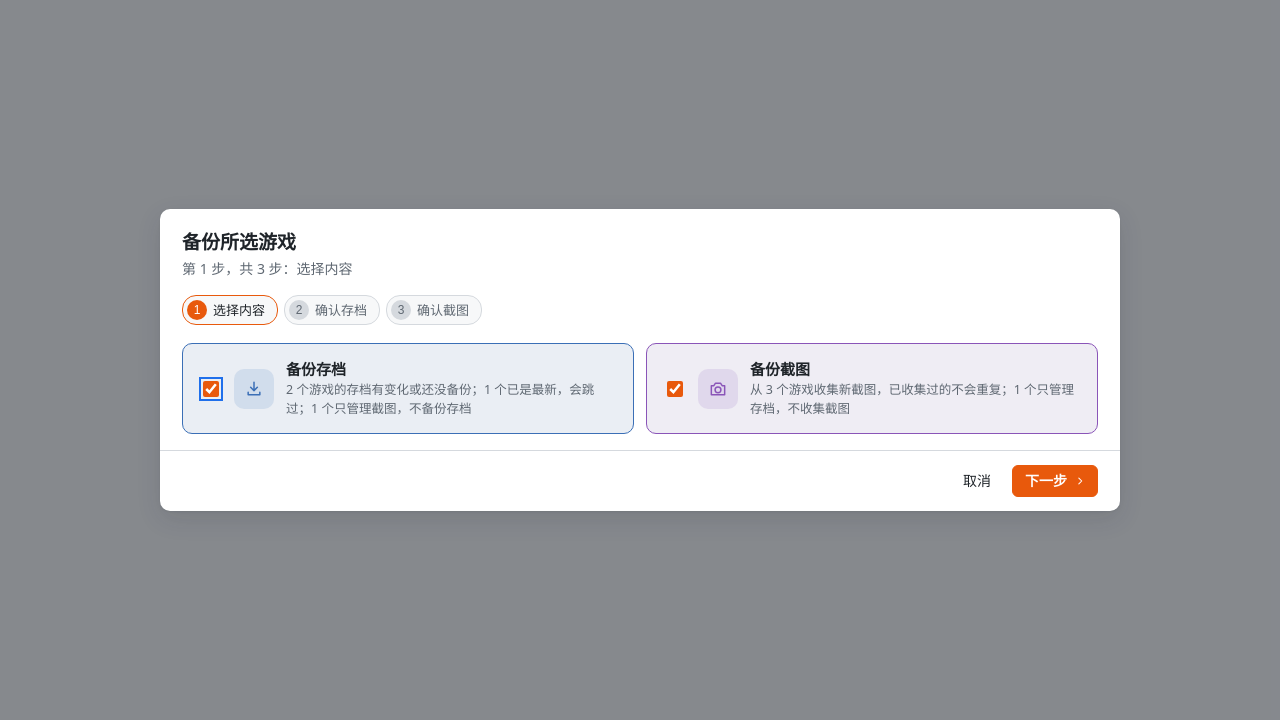
Test case: 备份确认 › 分步：选择存档与截图，依次确认，确认页可移除游戏；已是最新的跳过存档
This screenshot has width=1280, height=720.
expect the text "第 1 步，共 3 步：选择内容" is shown: met, box [182,259,353,278]
expect the checkbox labelled "备份存档 2 个游戏的存档有变化或还没备份；1 个已是最新，会跳过；1 个只管理截图，不备份存档" is checked: met, box [203,380,219,396]
Click the button "下一步": (1055, 481) [1012,465,1098,497]
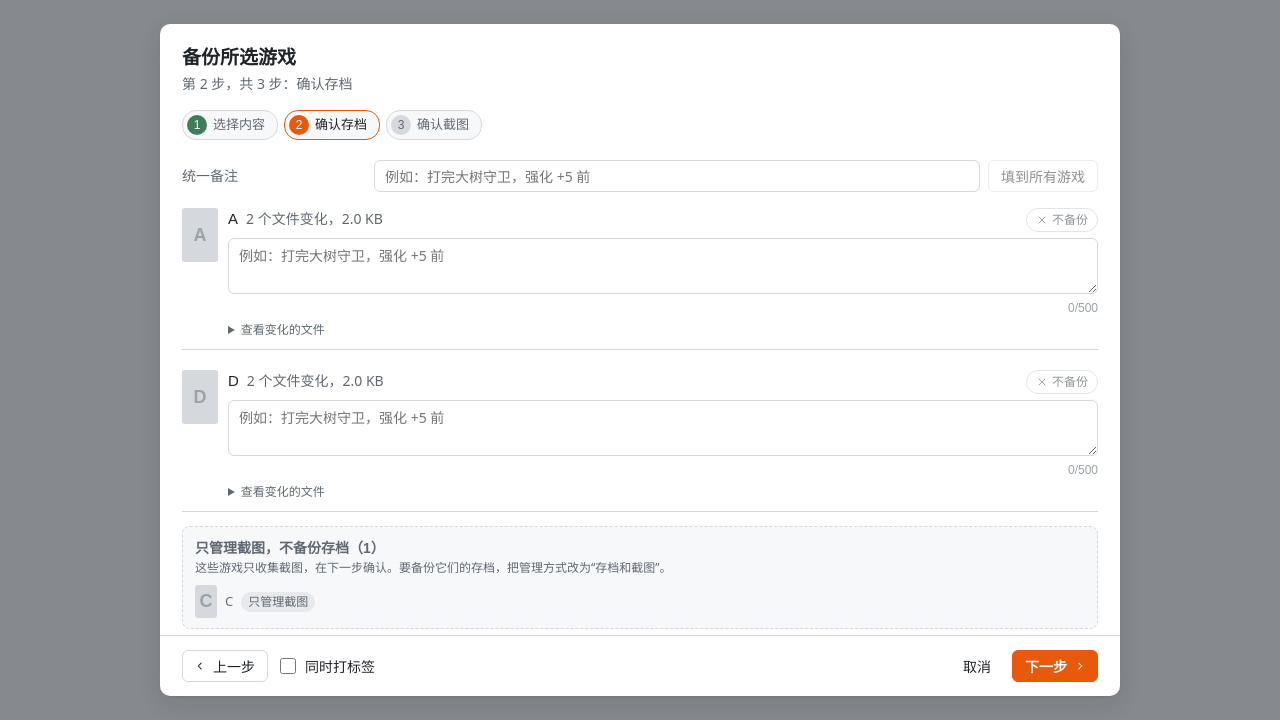
expect the element "只管理截图，不备份存档（1）" is shown: met, box [248,592,308,610]
Click the button with aria-label "这次不备份「D」": (1062, 382) [1026,370,1098,394]
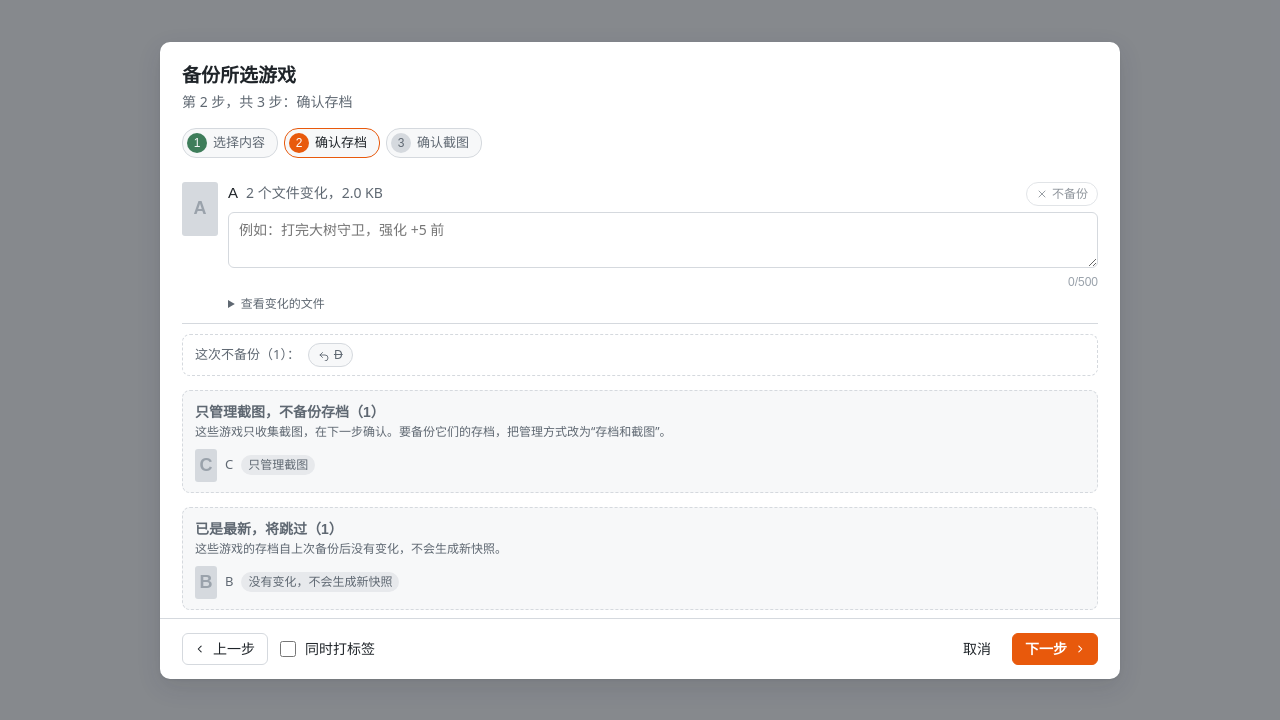
expect the text box labelled "「D」的备注" is gone: met
移出的游戏列在下方，可以恢复。
Click the button named "恢复「D」": (330, 354) [308,342,353,366]
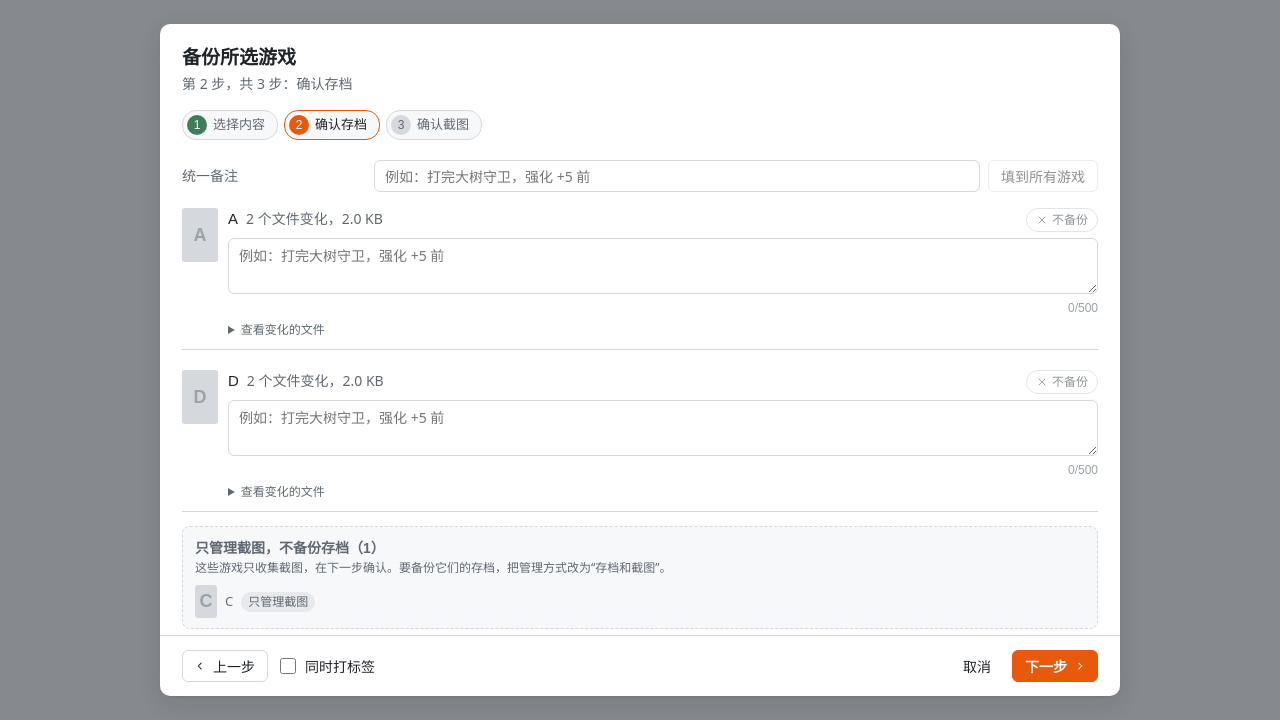
expect the text box named "「D」的备注" is shown: met, box [228,400,1098,456]
Click the button with aria-label "这次不备份「D」": (1062, 382) [1026,370,1098,394]
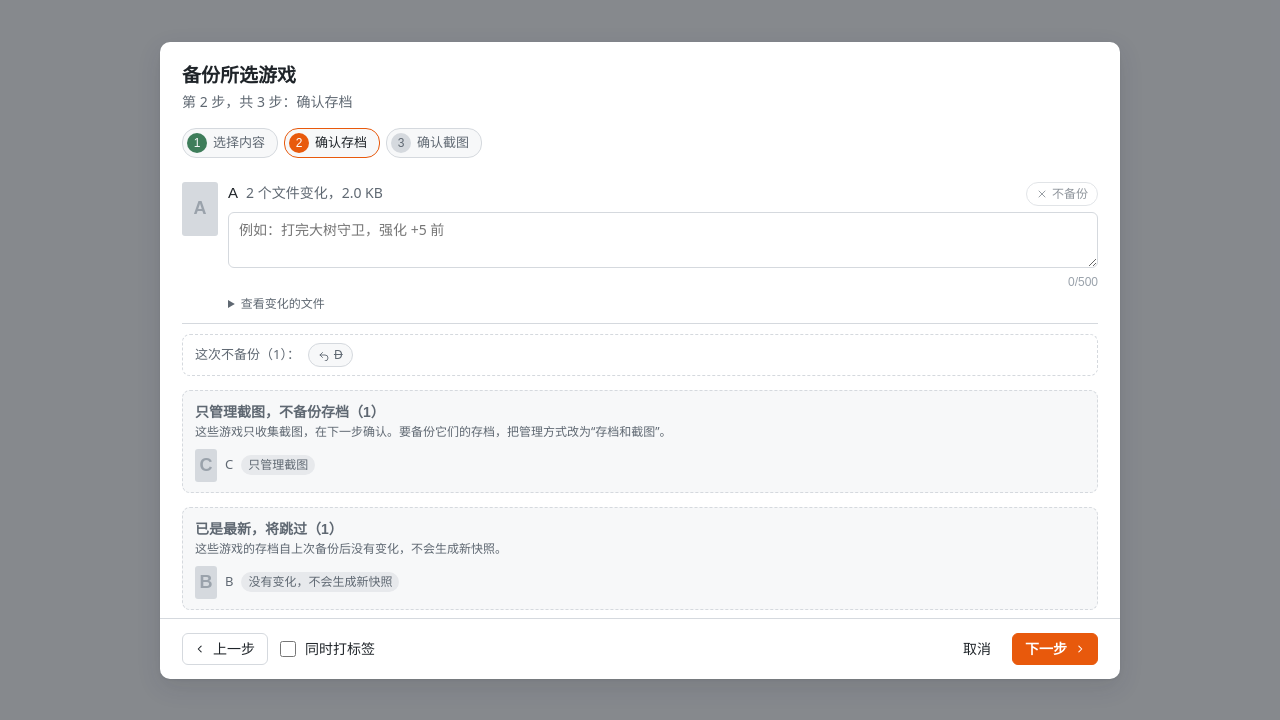
expect the text "这次不备份（1）：" is shown: met, box [195,345,300,364]
Click the button "下一步": (1055, 648) [1012,632,1098,664]
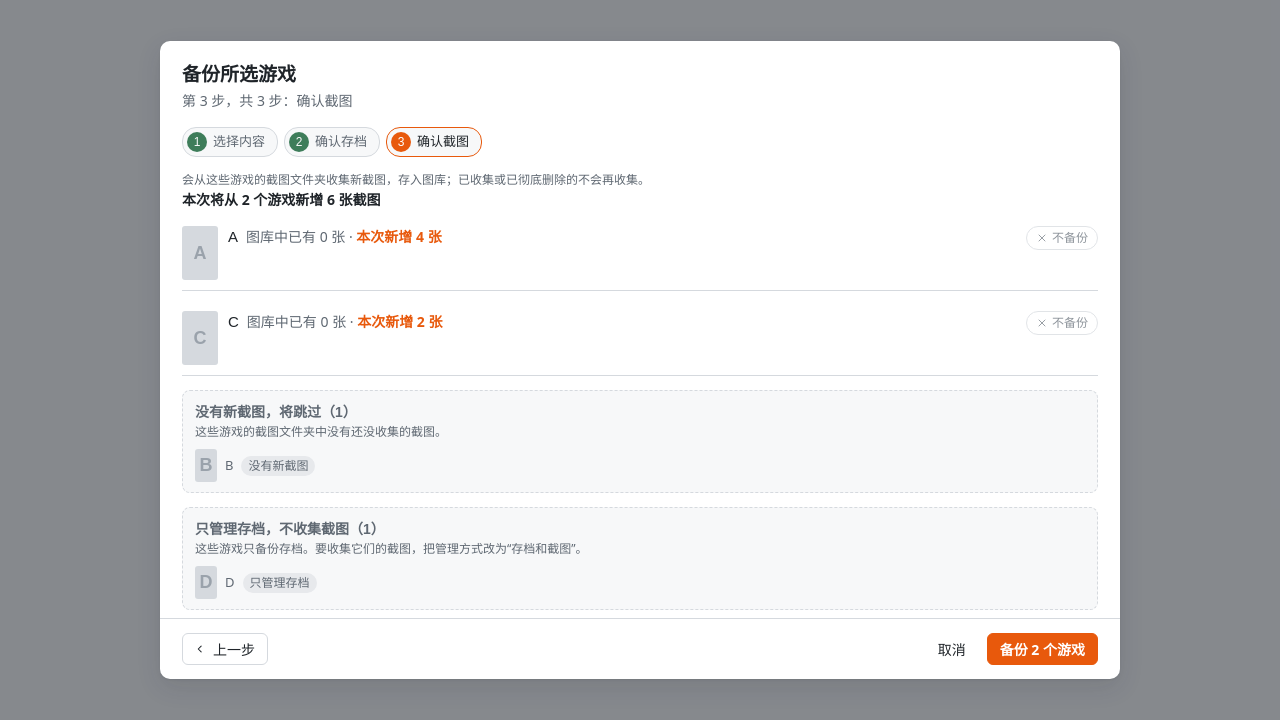
expect the text "第 3 步，共 3 步：确认截图" is shown: met, box [182,91,353,110]
expect the text "本次新增 4 张" is shown: met, box [356,227,442,246]
expect the text "本次将从 2 个游戏新增 6 张截图" is shown: met, box [182,190,381,209]
Click the button "备份 2 个游戏": (1042, 649) [987,633,1098,665]
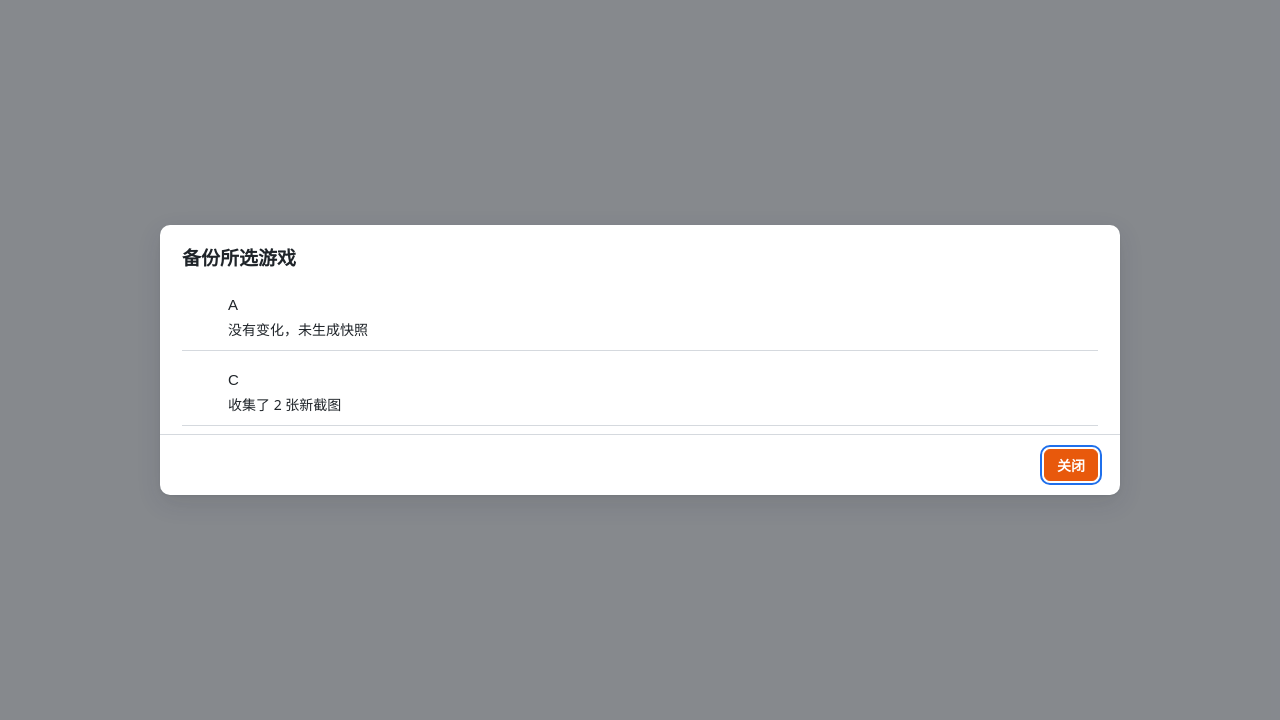
expect the text "收集了 2 张新截图" is shown: met, box [228,395,341,414]
